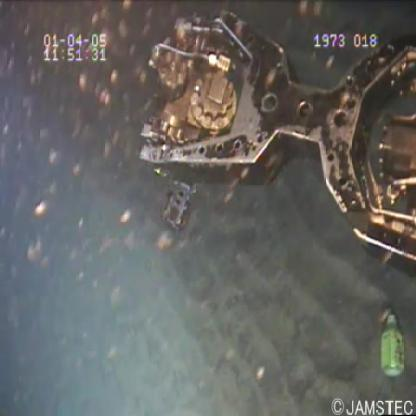Rov: (141, 8, 416, 286)
Rác: (378, 308, 404, 382)
